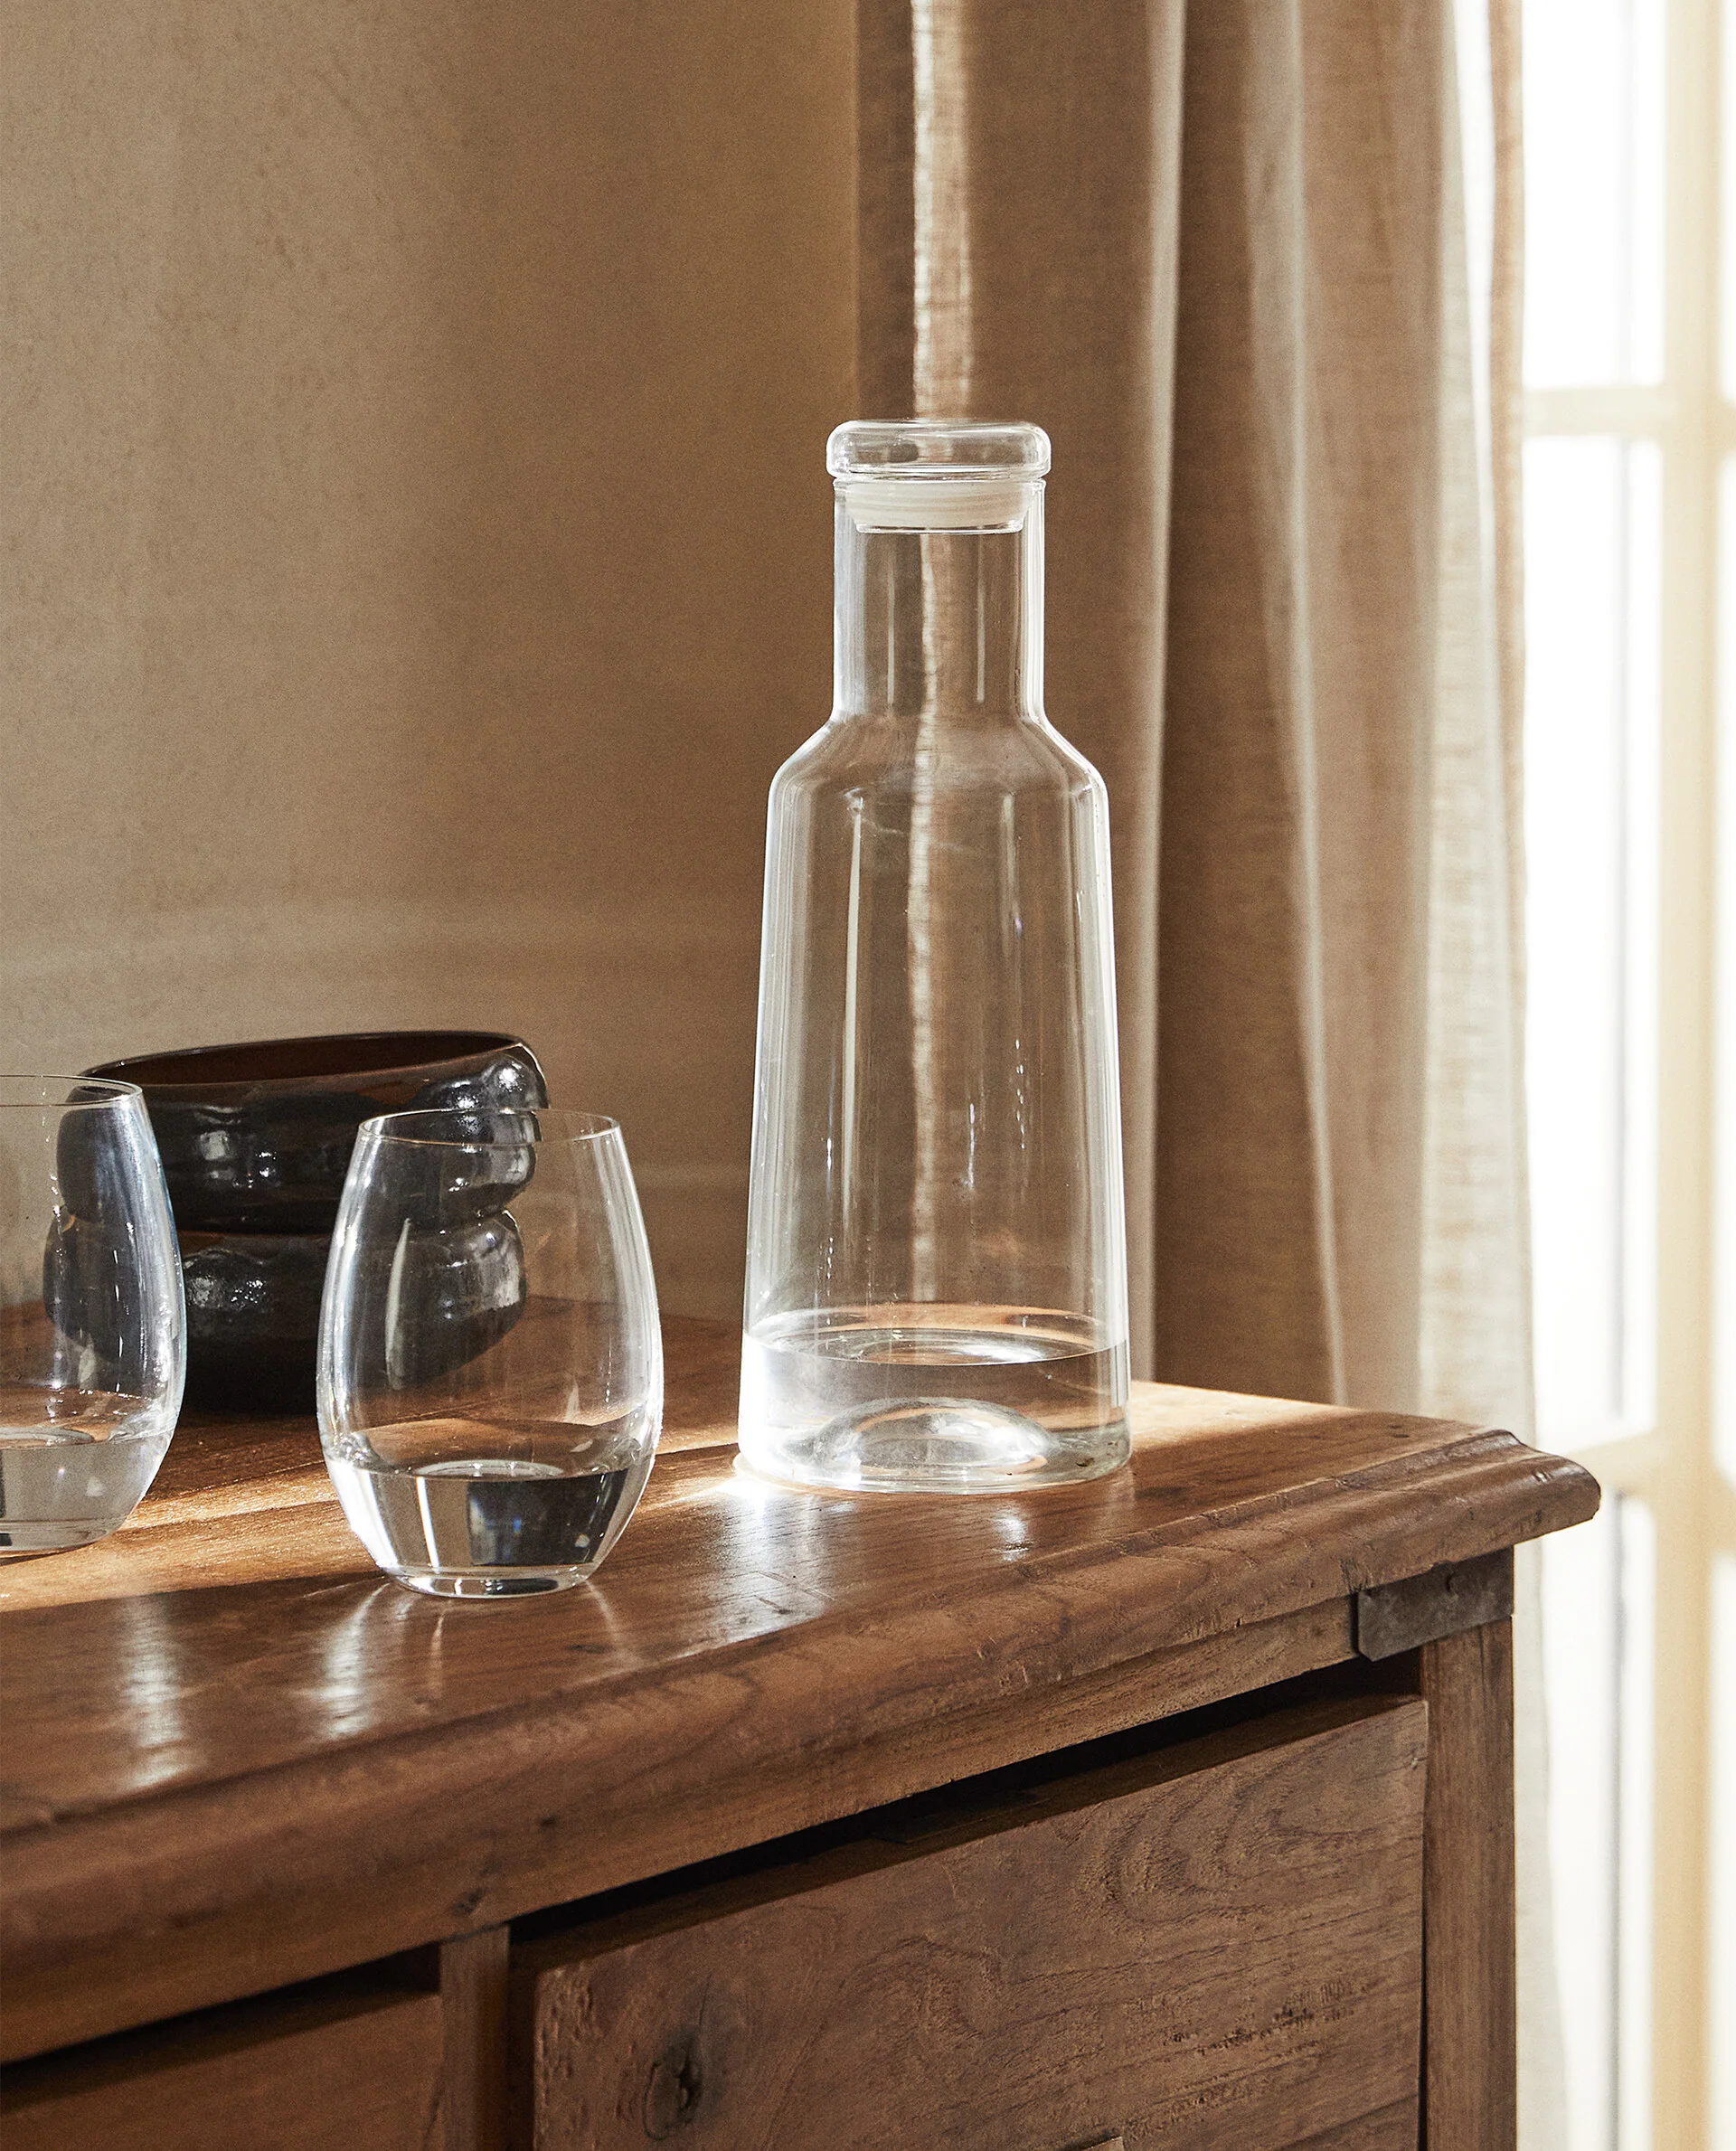glass_bottle: (698, 374, 1201, 1513)
